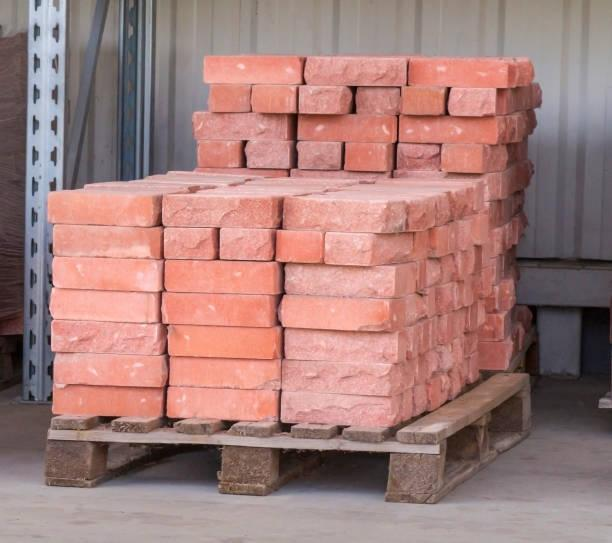Bricks: (160, 289, 274, 330), (280, 266, 413, 300), (51, 323, 167, 359), (164, 327, 284, 360), (290, 200, 409, 233), (49, 230, 164, 263), (163, 194, 276, 227), (161, 260, 274, 293), (281, 397, 381, 433), (283, 333, 410, 361), (167, 361, 277, 393), (280, 304, 400, 333), (56, 361, 171, 391), (41, 194, 159, 221), (50, 261, 160, 289), (203, 56, 310, 84), (296, 111, 397, 140), (50, 294, 157, 321), (283, 367, 394, 393), (51, 393, 171, 416), (410, 60, 516, 86), (323, 233, 407, 261), (404, 117, 491, 144), (311, 61, 406, 84), (197, 116, 287, 140), (171, 399, 277, 417), (48, 184, 184, 198), (484, 164, 532, 202), (488, 218, 532, 258), (454, 209, 490, 255), (166, 224, 209, 259), (426, 365, 462, 406), (488, 190, 523, 232), (219, 233, 274, 259), (274, 233, 321, 263), (388, 393, 429, 427), (168, 187, 307, 197), (462, 268, 494, 311), (406, 286, 438, 328), (431, 278, 462, 321), (299, 139, 341, 170), (430, 190, 463, 228), (397, 139, 436, 171), (354, 87, 397, 116), (449, 90, 496, 116), (300, 86, 341, 114), (435, 307, 464, 346), (249, 144, 294, 169), (492, 247, 522, 284), (293, 193, 404, 203), (251, 87, 299, 110), (408, 319, 436, 357), (453, 357, 485, 390), (483, 332, 518, 362), (350, 141, 384, 171), (411, 200, 440, 235), (404, 89, 440, 117), (489, 308, 516, 344), (207, 86, 249, 109), (500, 85, 531, 116), (436, 335, 466, 366), (432, 221, 456, 259), (511, 58, 537, 93), (447, 249, 476, 280), (484, 147, 514, 176), (493, 279, 520, 311), (394, 357, 420, 389), (498, 115, 529, 141), (199, 144, 239, 164), (460, 334, 487, 363), (414, 258, 445, 283), (446, 147, 491, 164), (474, 238, 496, 269), (417, 351, 444, 376), (459, 184, 482, 213), (411, 232, 434, 260), (461, 302, 482, 332)
